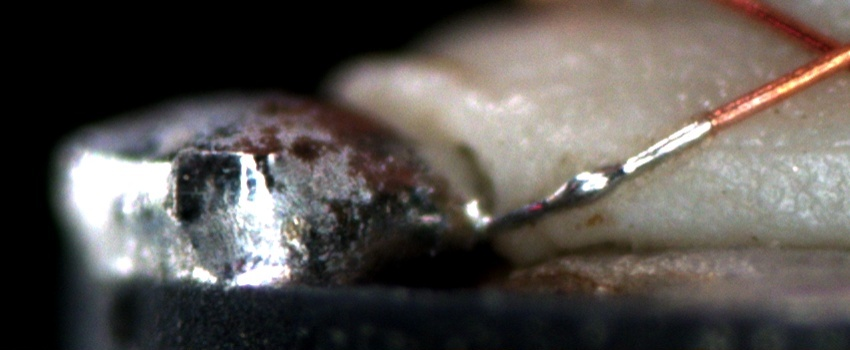CL: (793, 20, 848, 79)
DL: (712, 121, 850, 174)
TB: (555, 161, 618, 208)
TS: (468, 117, 712, 236)
TTCW: (460, 84, 765, 241)
